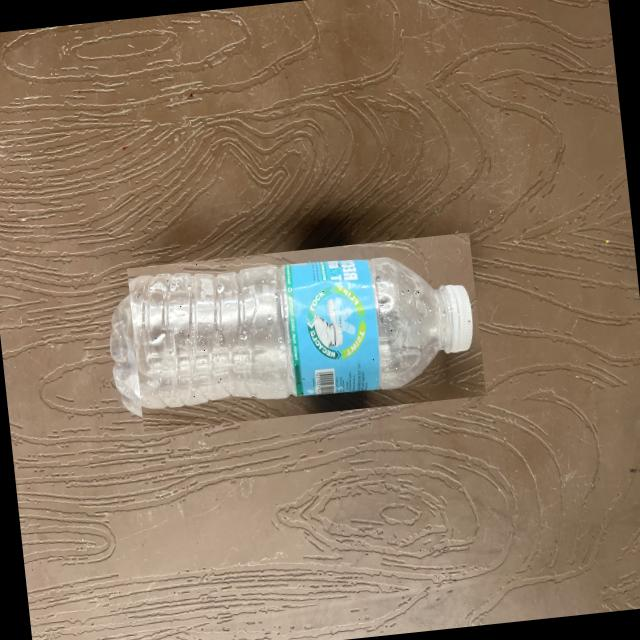REJECT: (127, 232, 486, 431)
